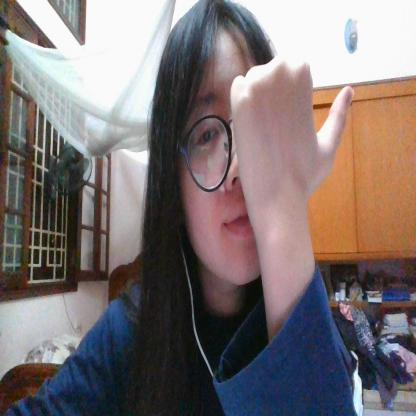left: (230, 49, 355, 225)
